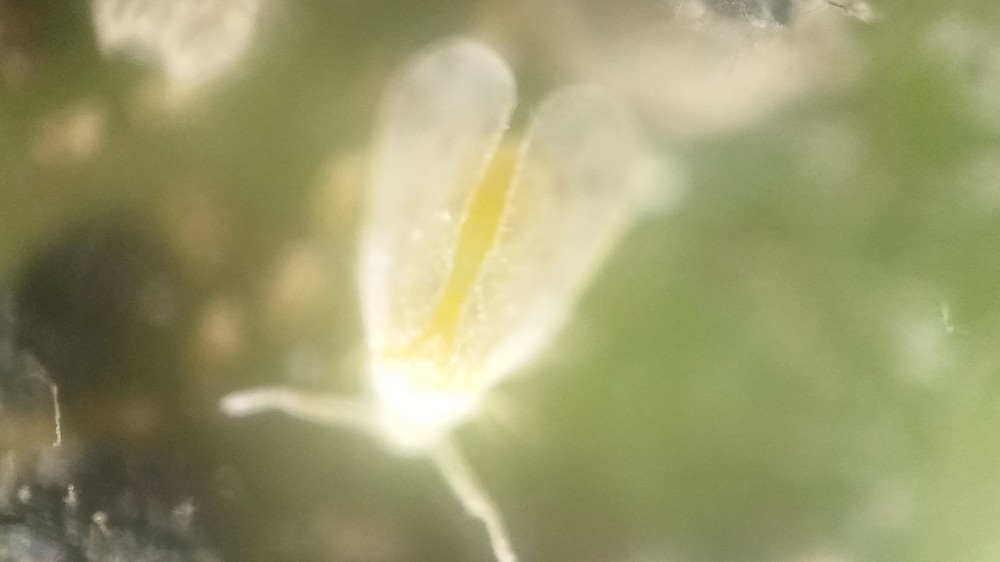Mosca Blanca: (217, 20, 693, 562)
